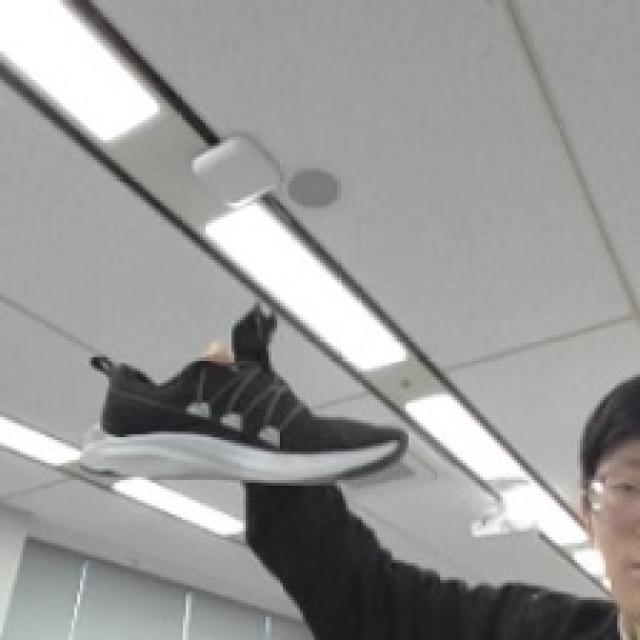shoe: (32, 284, 426, 498)
